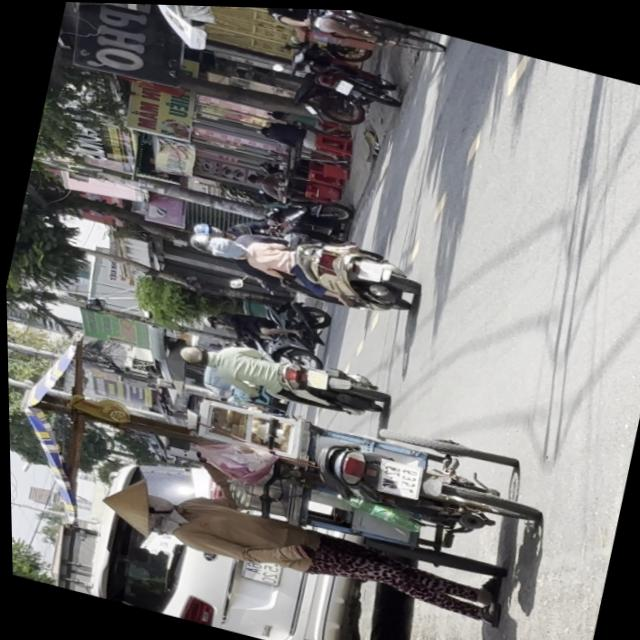helmet: (175, 339, 210, 365), (185, 227, 218, 253), (189, 216, 226, 239)
licenseplate: (179, 200, 426, 322), (170, 323, 391, 425)
motorcyclist: (200, 230, 244, 259)
nohelmet: (372, 453, 421, 496), (355, 256, 383, 280), (302, 364, 328, 387)
